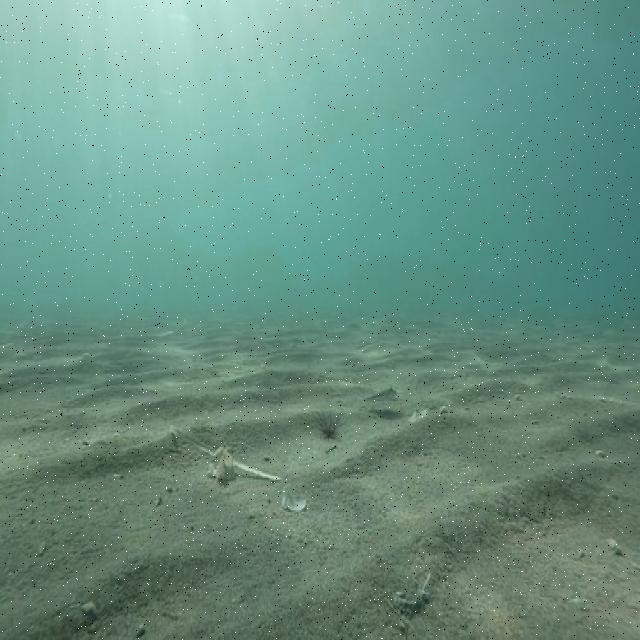Balik: (366, 386, 397, 401)
